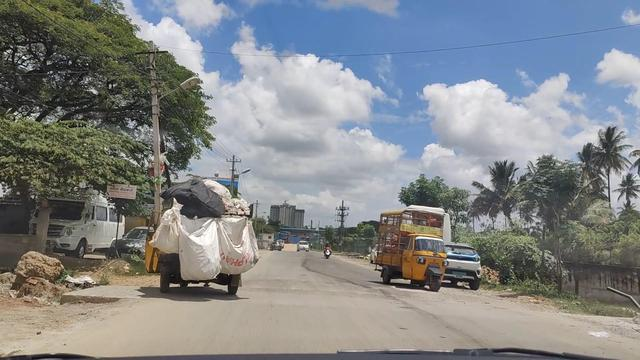HMV: (150, 186, 262, 302), (368, 208, 456, 295)
